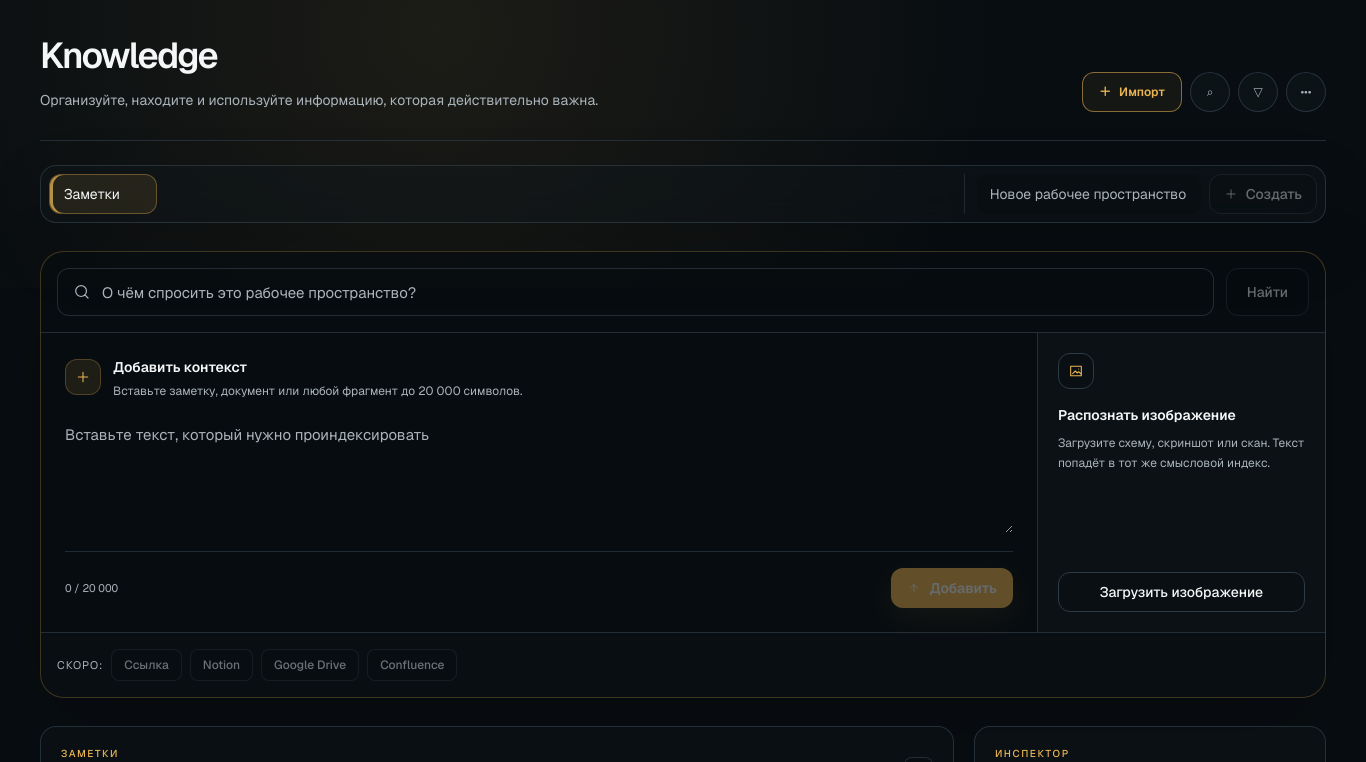
KnowledgePage › adds a text source to the active workspace and lists it
Type "Lumenza is a multimodal AI aggregator." into the text box with placeholder "Вставьте текст, который нужно проиндексировать" at (539, 477), box [65,421,1013,533]
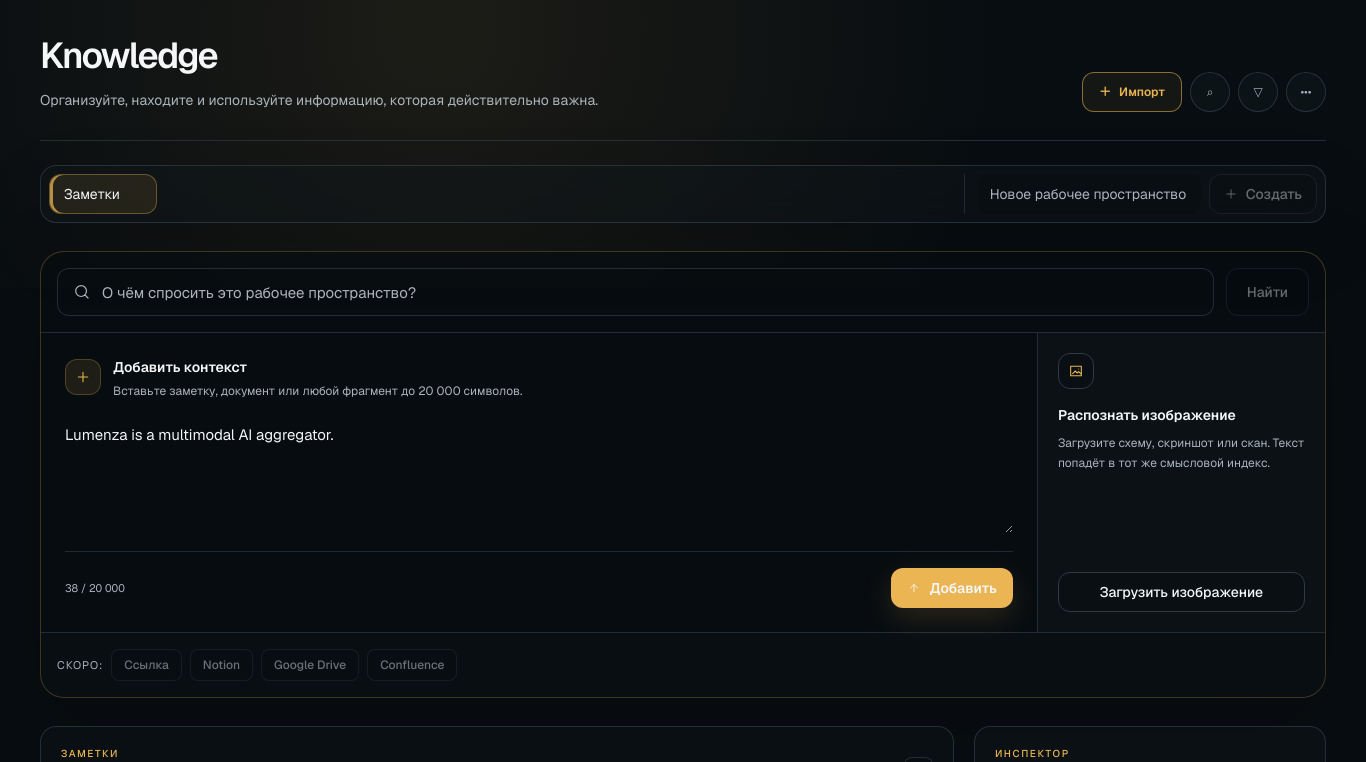
Click the button "Добавить" at (952, 588), box [892,568,1013,608]
(page scrolled)
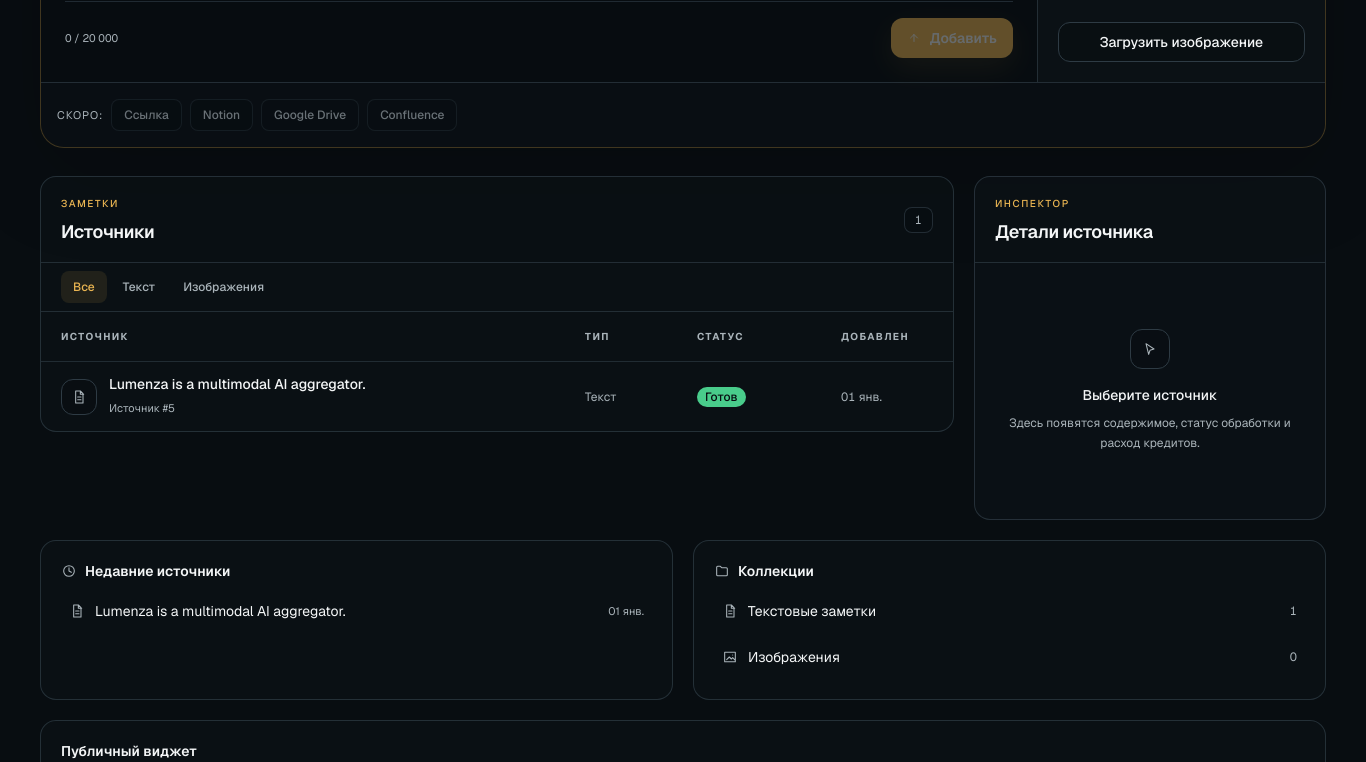
Check: the text "Lumenza is a multimodal AI aggregator." in the row of "Готов" is shown, box [109,375,365,393]
